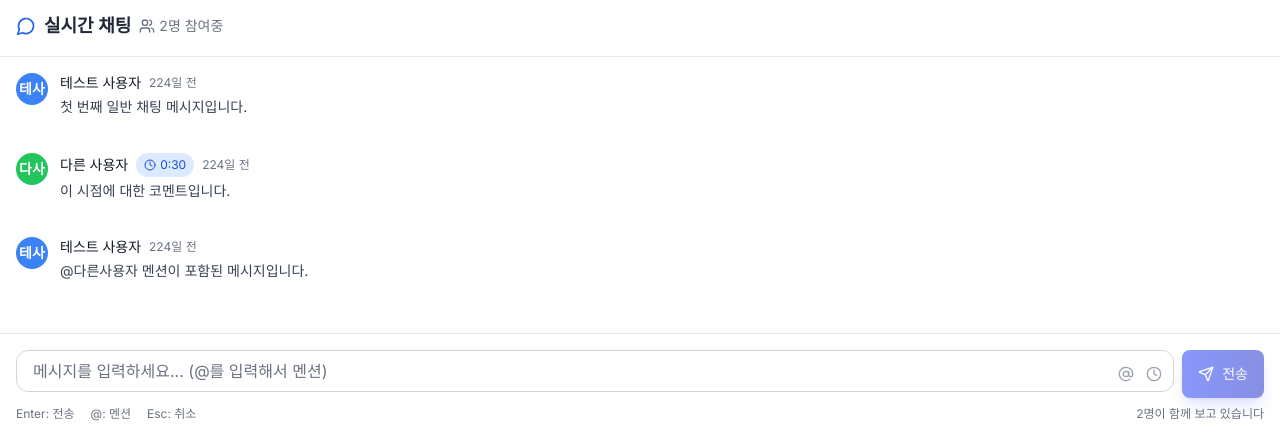
RealtimeComments › 멘션 버튼 클릭으로 @ 기호를 추가할 수 있다
The image size is (1280, 438).
Click the button titled "멘션": x=1126, y=374 [1114, 362, 1138, 386]
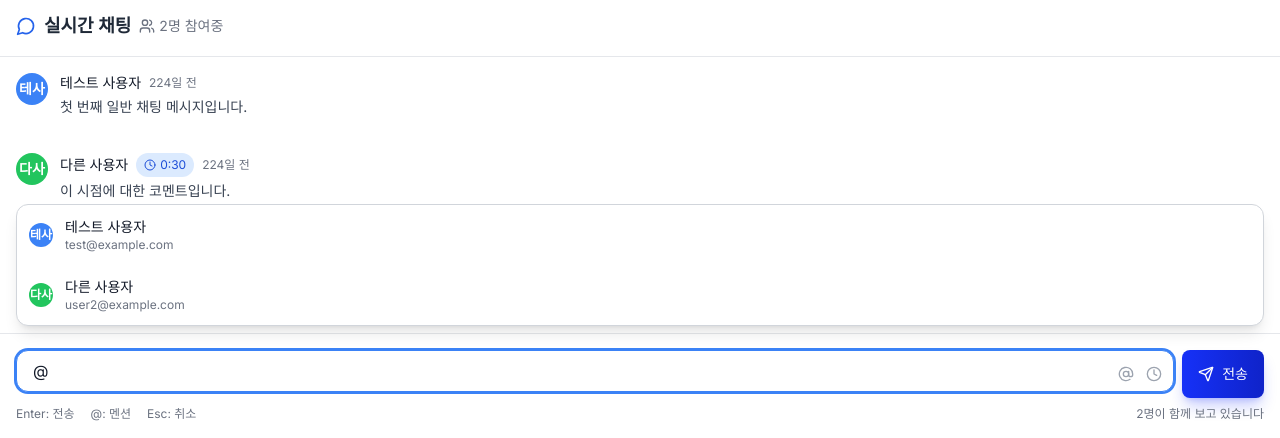
Now the field with placeholder "메시지를 입력하세요... (@를 입력해서 멘션)" holds "@", box [16, 350, 1174, 392]
